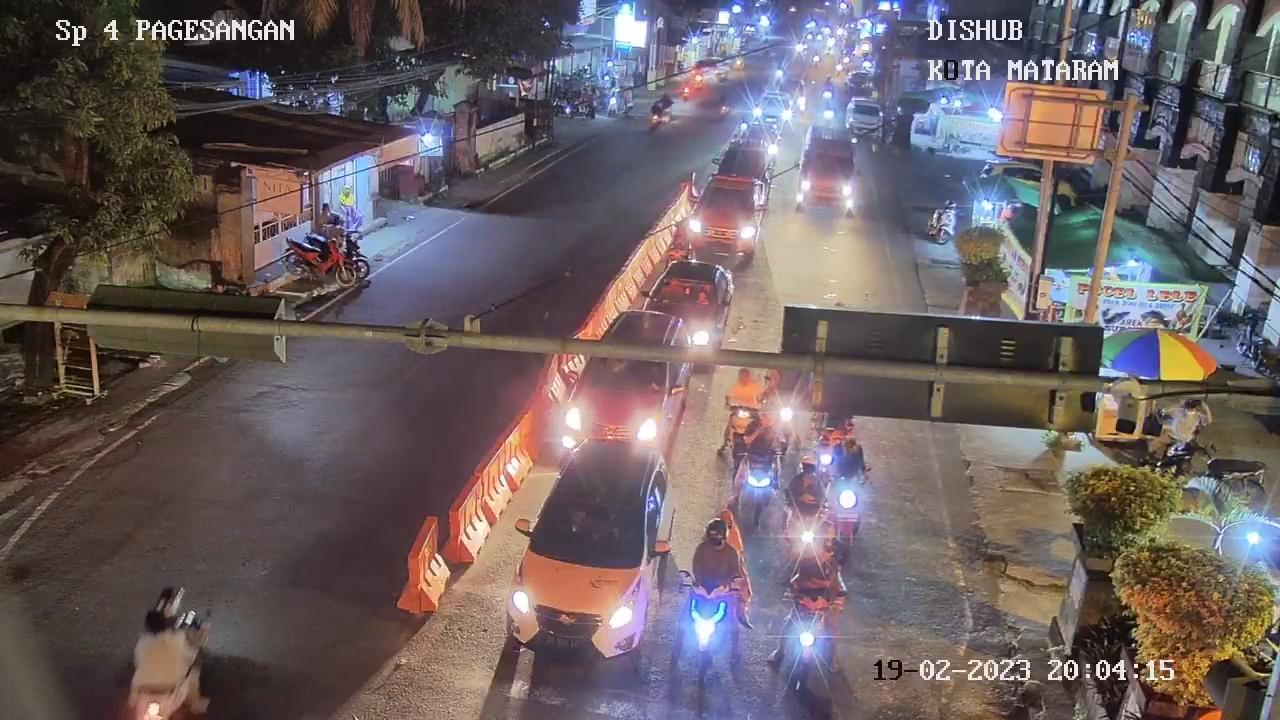car: (502, 432, 682, 661), (552, 302, 697, 470), (639, 252, 740, 368), (788, 116, 868, 214), (682, 168, 768, 254), (843, 91, 883, 141)
motorbike: (665, 561, 746, 692), (777, 586, 851, 695), (824, 469, 874, 560), (778, 485, 832, 560), (718, 400, 764, 476), (738, 450, 776, 523), (808, 420, 846, 479), (750, 86, 796, 133), (816, 68, 835, 105)
person: (117, 587, 199, 703), (674, 505, 752, 602), (726, 367, 763, 410)
